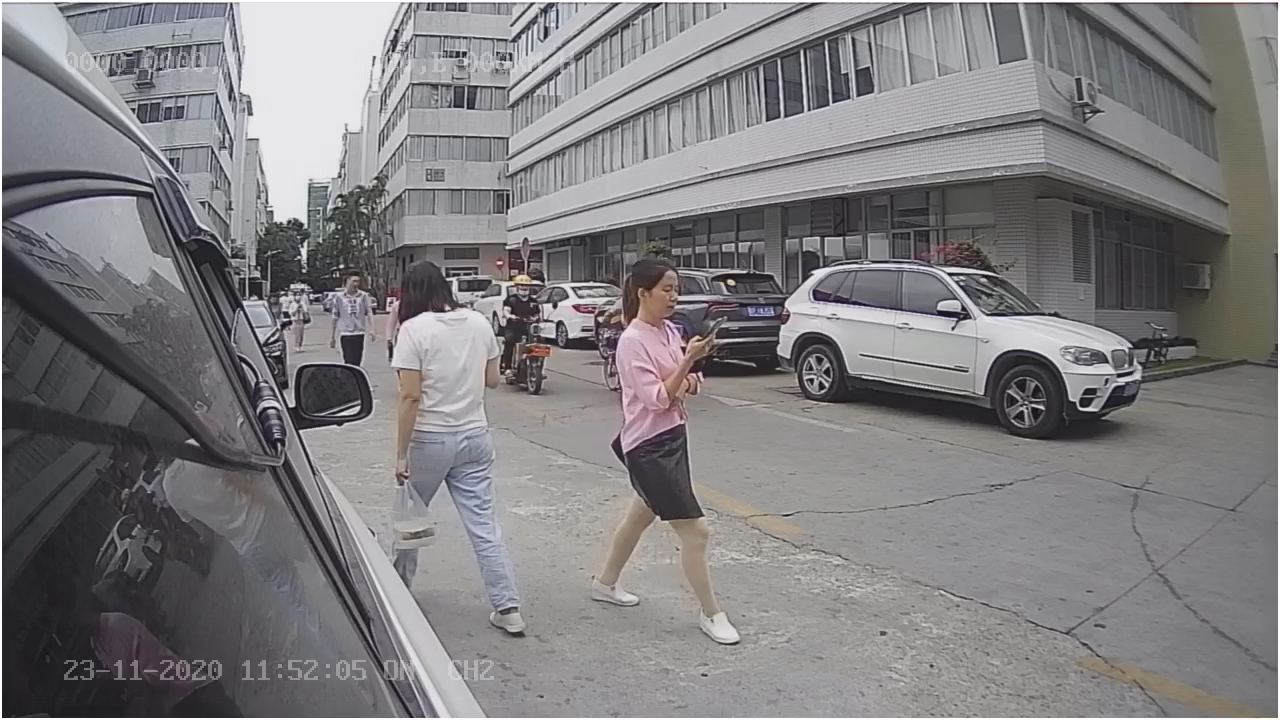person: (587, 250, 742, 642), (391, 253, 503, 437)
